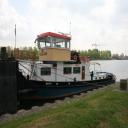tugboat: (1, 32, 119, 99)
